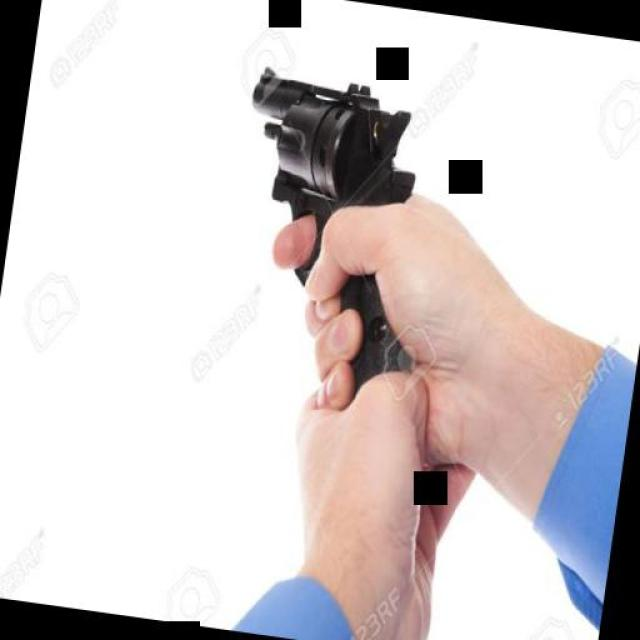gun: (200, 41, 461, 445)
